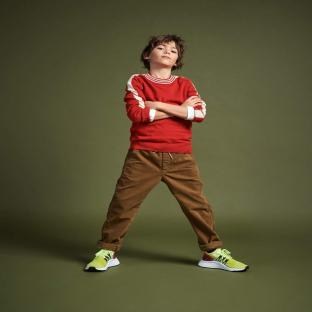Human: (85, 35, 248, 271)
